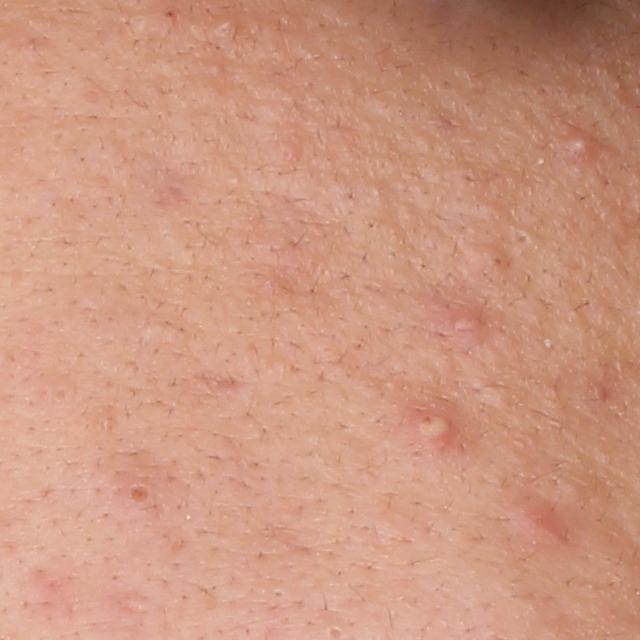comedo: (120, 476, 164, 512), (213, 14, 241, 39), (512, 229, 539, 248)
papule: (520, 508, 571, 551), (450, 310, 485, 340)
pustule: (414, 410, 456, 450)
